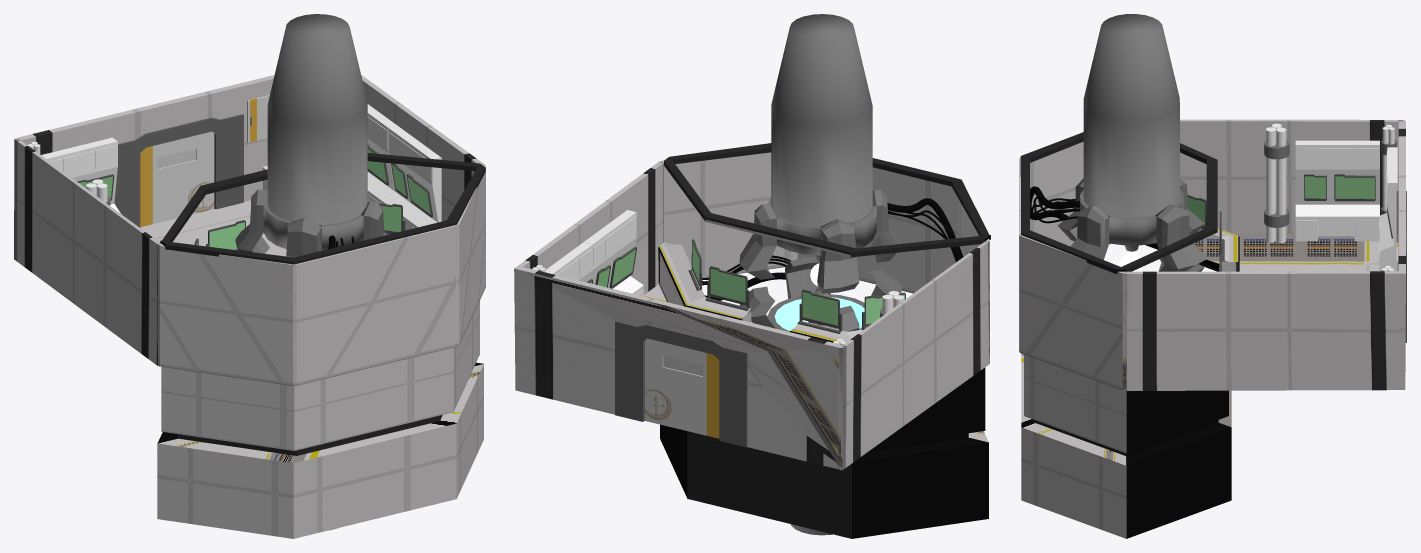
File: Engineering.glb
The picture shows the model from 3 angles, left to right: view 1: azimuth 30°, elevation 25°; view 2: azimuth 150°, elevation 25°; view 3: azimuth 270°, elevation 25°; orthographic projection. The views are drawn at different scales.
Parts seen in each view (by area): view 1: Walls -col, Cylinder, InnerDoor, door, Cube.012, Cube.004, Cube.001, Cube.009, pannelCover.001, Screen, Cube.008, Screen.002; view 2: Walls -col, Cylinder, door, InnerDoor, Cube.012, Cube.004, Cube.009, Screen, Screen.003, BezierCurve.004, Cube.008; view 3: Walls -col, Cylinder, Cube.030, Cube.012, Cube.001, Cube.032, Cylinder.003, Cylinder.002, BezierCurve.004, Cube.031.
Boxes of the visible parts, left/top/right/bottom form: Walls -col: left=14, top=75, right=485, bottom=538; Cylinder: left=235, top=14, right=386, bottom=530; InnerDoor: left=140, top=131, right=214, bottom=227; door: left=114, top=114, right=243, bottom=227; Cube.012: left=160, top=153, right=485, bottom=264; Cube.004: left=381, top=126, right=441, bottom=230; Cube.001: left=41, top=137, right=120, bottom=213; Cube.009: left=367, top=104, right=397, bottom=203; pannelCover.001: left=247, top=95, right=269, bottom=142; Screen: left=208, top=220, right=245, bottom=250; Cube.008: left=406, top=174, right=432, bottom=217; Screen.002: left=378, top=203, right=402, bottom=233; Walls -col: left=514, top=152, right=989, bottom=538; Cylinder: left=739, top=14, right=902, bottom=535; door: left=615, top=320, right=747, bottom=447; InnerDoor: left=645, top=338, right=719, bottom=438; Cube.012: left=664, top=143, right=990, bottom=257; Cube.004: left=584, top=210, right=643, bottom=296; Cube.009: left=545, top=242, right=592, bottom=282; Screen: left=801, top=289, right=839, bottom=328; Screen.003: left=709, top=266, right=747, bottom=305; BezierCurve.004: left=887, top=198, right=960, bottom=260; Cube.008: left=609, top=246, right=636, bottom=288; Walls -col: left=1019, top=119, right=1405, bottom=538; Cylinder: left=1057, top=14, right=1207, bottom=271; Cube.030: left=1295, top=140, right=1379, bottom=241; Cube.012: left=1020, top=132, right=1217, bottom=273; Cube.001: left=1379, top=147, right=1397, bottom=271; Cube.032: left=1334, top=174, right=1375, bottom=201; Cylinder.003: left=1276, top=127, right=1286, bottom=242; Cylinder.002: left=1266, top=127, right=1275, bottom=242; BezierCurve.004: left=1030, top=186, right=1079, bottom=220; Cube.031: left=1304, top=174, right=1326, bottom=200.
Bounding box in the file's own units: 10.04 × 14.34 × 10.63.
Materials: 17 (4 with a texture image).
